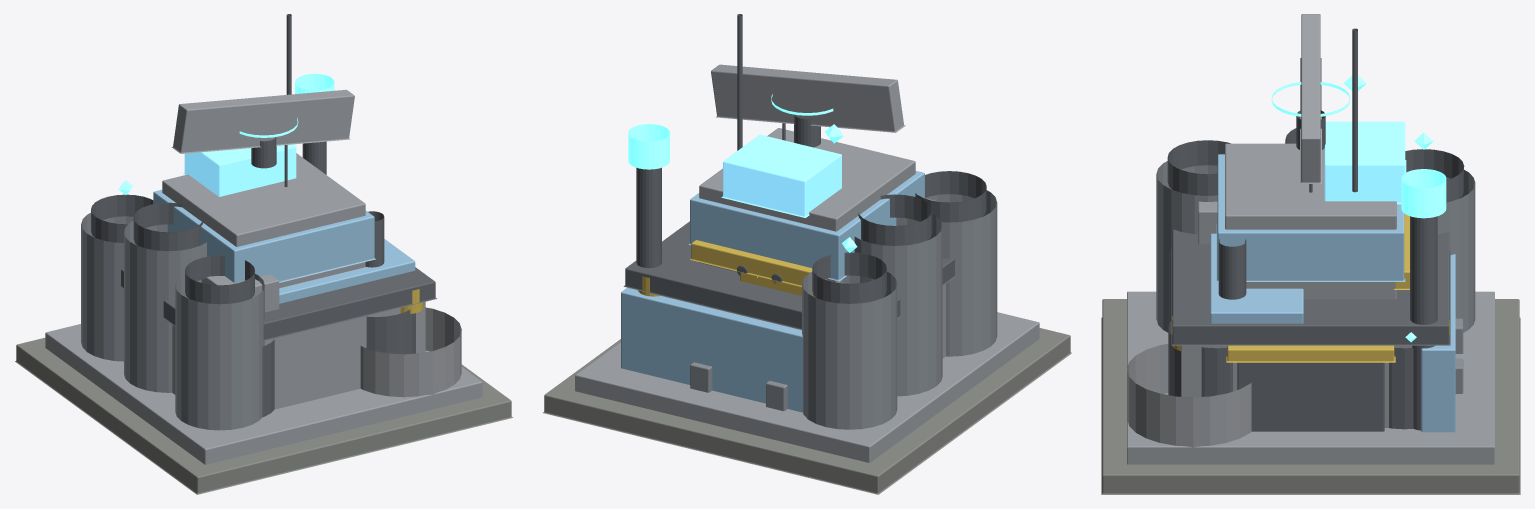
File: bunker.glb
3 views of the same model, side by side, from view 1: azimuth 30°, elevation 25°; view 2: azimuth 150°, elevation 25°; view 3: azimuth 270°, elevation 25° (orthographic). The views are drawn at different scales.
Parts seen in each view (by area): view 1: refinery_Static_Armor, base_Static_Steel, refinery_Static_Concrete, RadarDish, barracks_Static_Steel, base_Static_FactionPaint, refinery_Static_DarkMetal, barracks_Static_DarkMetal, base_Static_Concrete, refinery_Static_Steel, base_Static_DarkMetal, base_Static_Glass (+2 smaller); view 2: refinery_Static_Armor, base_Static_Steel, refinery_Static_Concrete, barracks_Static_FactionPaint, refinery_Static_DarkMetal, RadarDish, base_Static_FactionPaint, barracks_Static_DarkMetal, base_Static_Glass, base_Static_Concrete, barracks_Static_Warning, Flare (+2 smaller); view 3: base_Static_Steel, barracks_Static_DarkMetal, refinery_Static_Concrete, base_Static_Concrete, base_Static_FactionPaint, AssemblyDoor, refinery_Static_DarkMetal, refinery_Static_Steel, refinery_Static_Armor, base_Static_Glass, base_Static_DarkMetal, RadarDish (+6 smaller).
Boxes of the visible parts, bbox=[...] form: refinery_Static_Armor: bbox=[81, 213, 264, 430]; base_Static_Steel: bbox=[45, 153, 482, 464]; refinery_Static_Concrete: bbox=[15, 338, 512, 494]; RadarDish: bbox=[171, 89, 354, 153]; barracks_Static_Steel: bbox=[172, 274, 425, 409]; base_Static_FactionPaint: bbox=[153, 189, 375, 282]; refinery_Static_DarkMetal: bbox=[91, 141, 326, 304]; barracks_Static_DarkMetal: bbox=[120, 211, 436, 341]; base_Static_Concrete: bbox=[20, 339, 506, 475]; refinery_Static_Steel: bbox=[360, 307, 461, 397]; base_Static_DarkMetal: bbox=[251, 14, 415, 417]; base_Static_Glass: bbox=[183, 144, 296, 196]; refinery_Static_Armor: bbox=[802, 190, 997, 429]; base_Static_Steel: bbox=[575, 128, 1039, 462]; refinery_Static_Concrete: bbox=[543, 328, 1071, 494]; barracks_Static_FactionPaint: bbox=[621, 287, 802, 412]; refinery_Static_DarkMetal: bbox=[636, 167, 986, 303]; RadarDish: bbox=[711, 64, 905, 132]; base_Static_FactionPaint: bbox=[688, 171, 924, 281]; barracks_Static_DarkMetal: bbox=[623, 221, 955, 329]; base_Static_Glass: bbox=[721, 134, 841, 217]; base_Static_Concrete: bbox=[549, 341, 971, 474]; barracks_Static_Warning: bbox=[690, 240, 815, 297]; Flare: bbox=[628, 124, 669, 169]; base_Static_Steel: bbox=[1127, 143, 1494, 464]; barracks_Static_DarkMetal: bbox=[1171, 229, 1450, 345]; refinery_Static_Concrete: bbox=[1101, 299, 1520, 494]; base_Static_Concrete: bbox=[1106, 300, 1515, 473]; base_Static_FactionPaint: bbox=[1216, 154, 1405, 281]; AssemblyDoor: bbox=[1237, 362, 1384, 431]; refinery_Static_DarkMetal: bbox=[1167, 128, 1464, 430]; refinery_Static_Steel: bbox=[1127, 343, 1251, 447]; refinery_Static_Armor: bbox=[1156, 161, 1475, 332]; base_Static_Glass: bbox=[1324, 121, 1406, 204]; base_Static_DarkMetal: bbox=[1168, 28, 1413, 429]; RadarDish: bbox=[1300, 14, 1321, 183].
Bounding box in the file's own units: 4.27 × 4.56 × 4.27.
